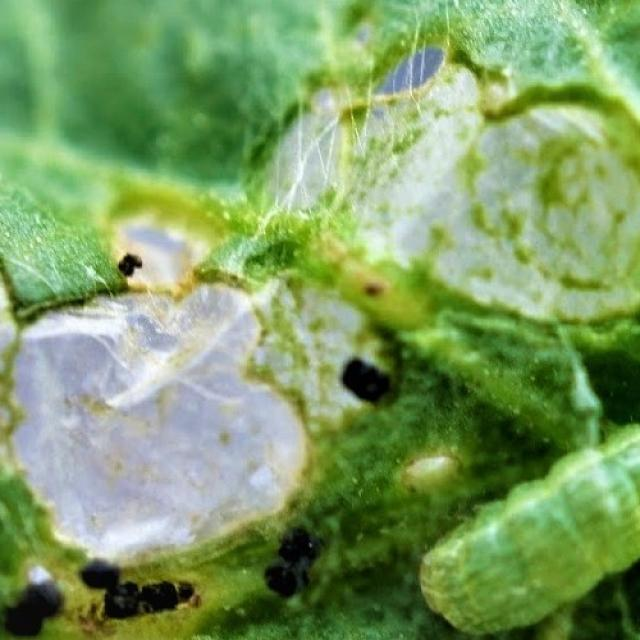armyworm: (425, 410, 640, 640)
